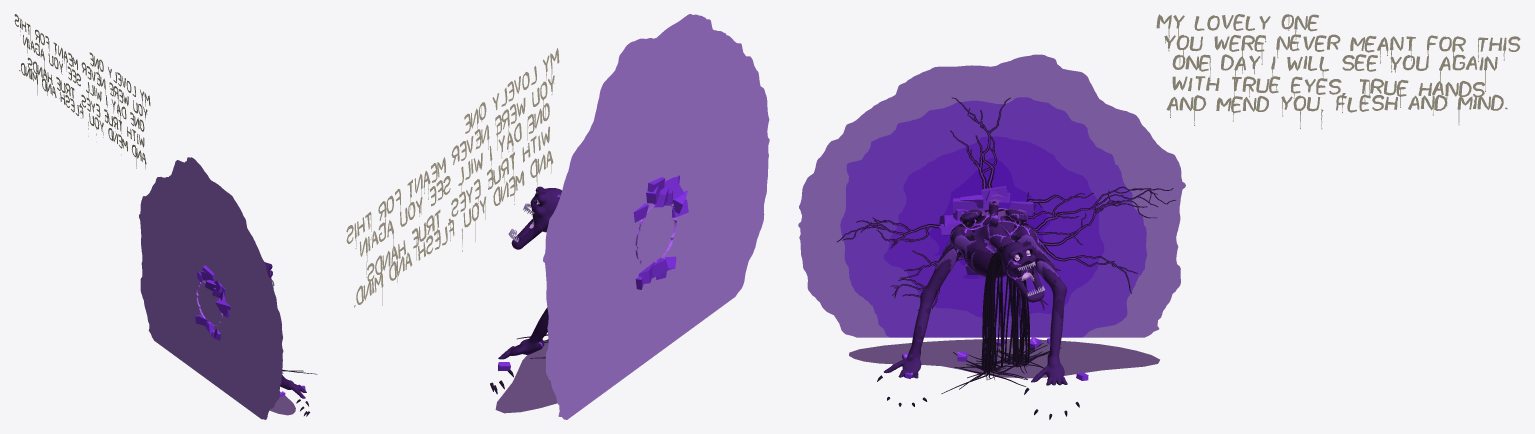
Rendered from purple_hound.glb.
The picture shows the model from 3 angles, left to right: view 1: azimuth 30°, elevation 25°; view 2: azimuth 150°, elevation 25°; view 3: azimuth 270°, elevation 25°; orthographic projection. The views are drawn at different scales.
Visible parts, largest first — view 1: teil3, teil12, teil9, koerper, teil11; view 2: teil3, teil12, koerper, teil11, teil9; view 3: teil3, teil4, teil5, teil12, koerper, teil11, teil2, teil8, teil6, teil9, teil7.
Part boxes in pixels (x1,y1,x2,y2): teil3: [139, 157, 283, 419]; teil12: [14, 14, 150, 169]; teil9: [195, 265, 305, 396]; koerper: [196, 262, 306, 398]; teil11: [269, 391, 295, 415]; teil3: [543, 14, 769, 419]; teil12: [346, 48, 559, 307]; koerper: [498, 186, 676, 359]; teil11: [495, 339, 557, 413]; teil9: [498, 175, 688, 370]; teil3: [798, 54, 1185, 337]; teil4: [840, 97, 1147, 337]; teil5: [883, 136, 1104, 318]; teil12: [1156, 14, 1520, 129]; koerper: [884, 201, 1067, 385]; teil11: [849, 339, 1159, 378]; teil2: [941, 240, 1061, 393]; teil8: [836, 97, 1175, 310]; teil6: [928, 158, 1050, 278]; teil9: [901, 186, 1088, 380]; teil7: [840, 98, 1170, 308].
Size of the model in its own units: 0.7288 by 1.97 by 3.62.
